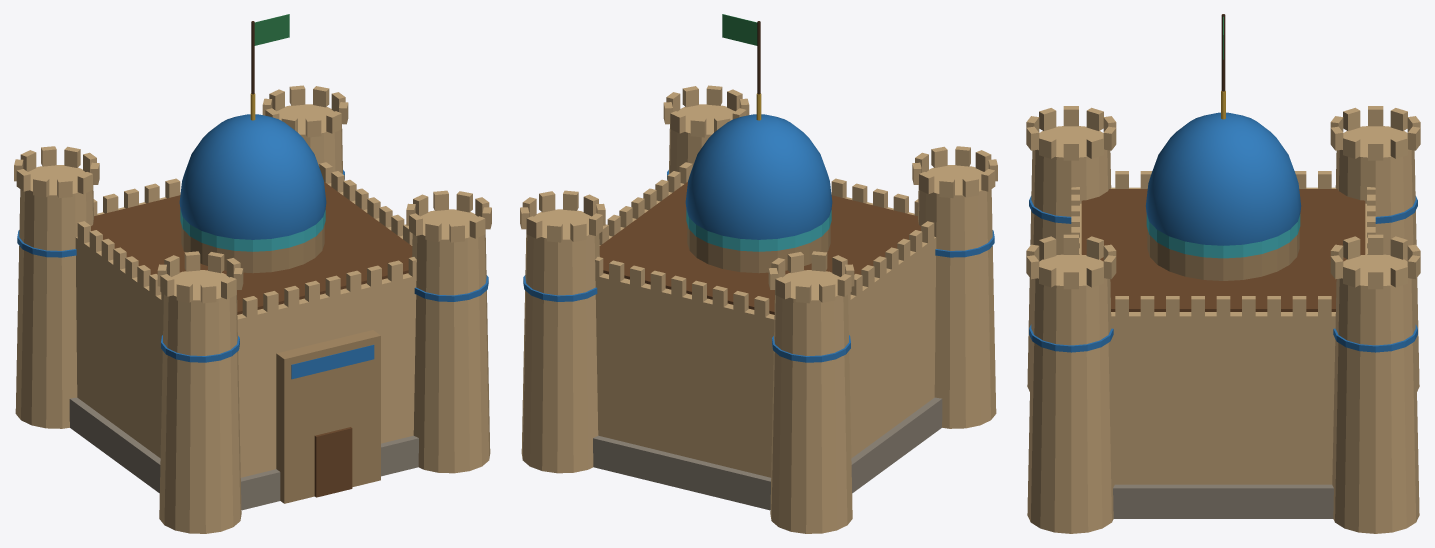
The model's file is keep.glb.
3 renders of one model, left to right at view 1: azimuth 30°, elevation 25°; view 2: azimuth 150°, elevation 25°; view 3: azimuth 270°, elevation 25°, orthographic. The views are drawn at different scales.
Visible parts, largest first — view 1: Keep; view 2: Keep; view 3: Keep.
Boxes of the visible parts, x1=… form: Keep: x1=14, y1=14, x2=491, y2=533; Keep: x1=520, y1=14, x2=997, y2=533; Keep: x1=1026, y1=14, x2=1420, y2=533.
Size of the model in its own units: 23.3 by 28.5 by 23.32.
